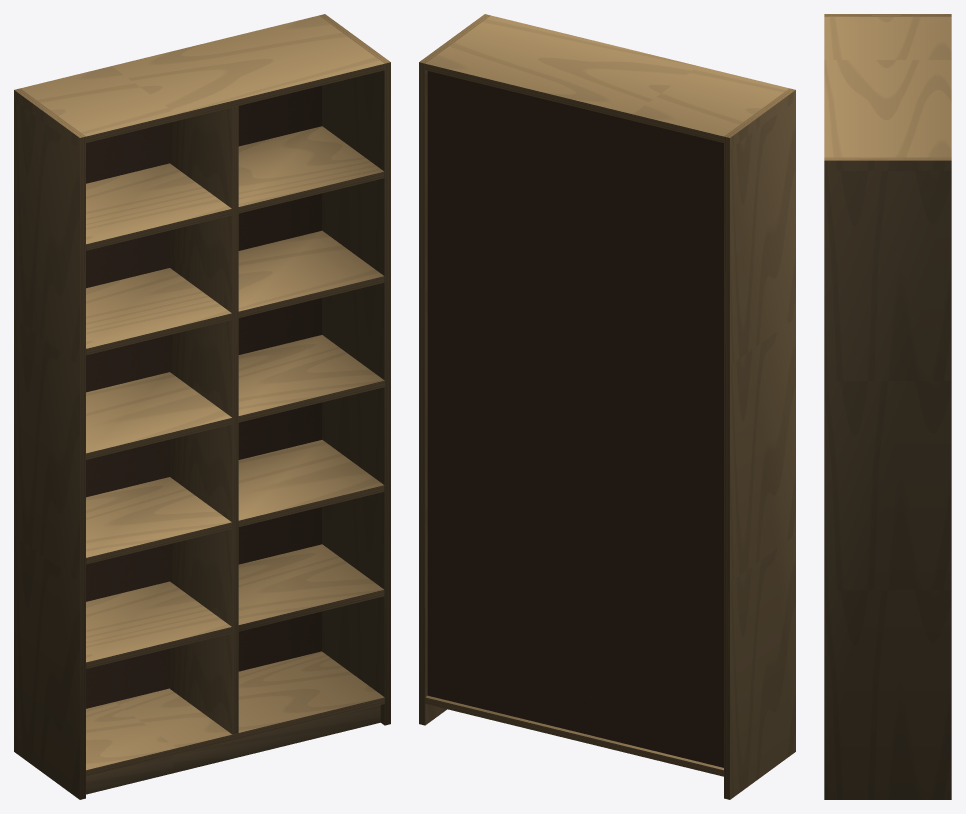
Rendered from display.bookcase-1.glb.
The picture shows the model from 3 angles, left to right: view 1: azimuth 30°, elevation 25°; view 2: azimuth 150°, elevation 25°; view 3: azimuth 270°, elevation 25°; orthographic projection. The views are drawn at different scales.
Parts seen in each view (by area): view 1: asset:composed-furniture:display.bookcase-1:sheet:eyJtIjoicG (×14), asset:composed-furniture:display.bookcase-1:sheet:eyJtIjoibW; view 2: asset:composed-furniture:display.bookcase-1:sheet:eyJtIjoibW, asset:composed-furniture:display.bookcase-1:sheet:eyJtIjoicG (×8); view 3: asset:composed-furniture:display.bookcase-1:sheet:eyJtIjoicG (×4).
Boxes of the visible parts, box(x1,y1,x2,y2) form: asset:composed-furniture:display.bookcase-1:sheet:eyJtIjoicG (×14): box(14, 15, 390, 799); asset:composed-furniture:display.bookcase-1:sheet:eyJtIjoibW: box(86, 85, 321, 708); asset:composed-furniture:display.bookcase-1:sheet:eyJtIjoibW: box(427, 71, 723, 767); asset:composed-furniture:display.bookcase-1:sheet:eyJtIjoicG (×8): box(419, 15, 795, 799); asset:composed-furniture:display.bookcase-1:sheet:eyJtIjoicG (×4): box(824, 14, 951, 799).
Bounding box in the file's own units: 0.9 × 1.83 × 0.33.
24 materials, 24 textured.
